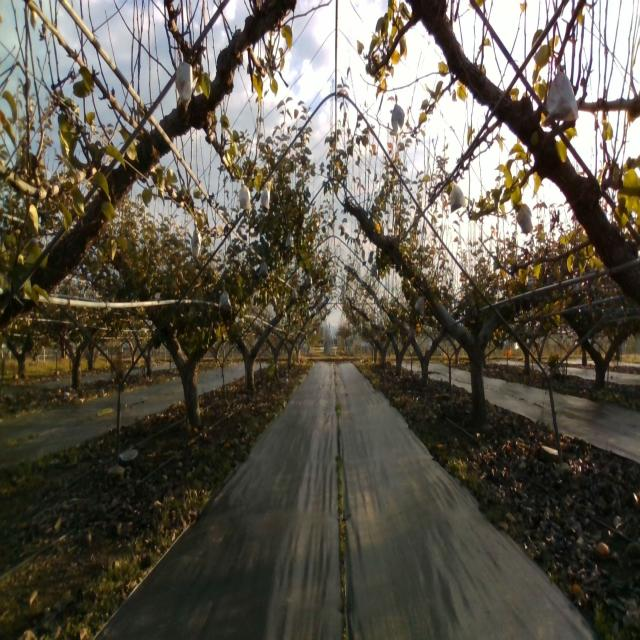pearbags: (542, 64, 579, 125), (175, 48, 193, 113), (391, 95, 405, 135), (517, 202, 533, 236), (191, 220, 202, 260), (239, 178, 252, 211), (451, 183, 465, 213), (218, 284, 231, 310), (260, 183, 270, 210)
